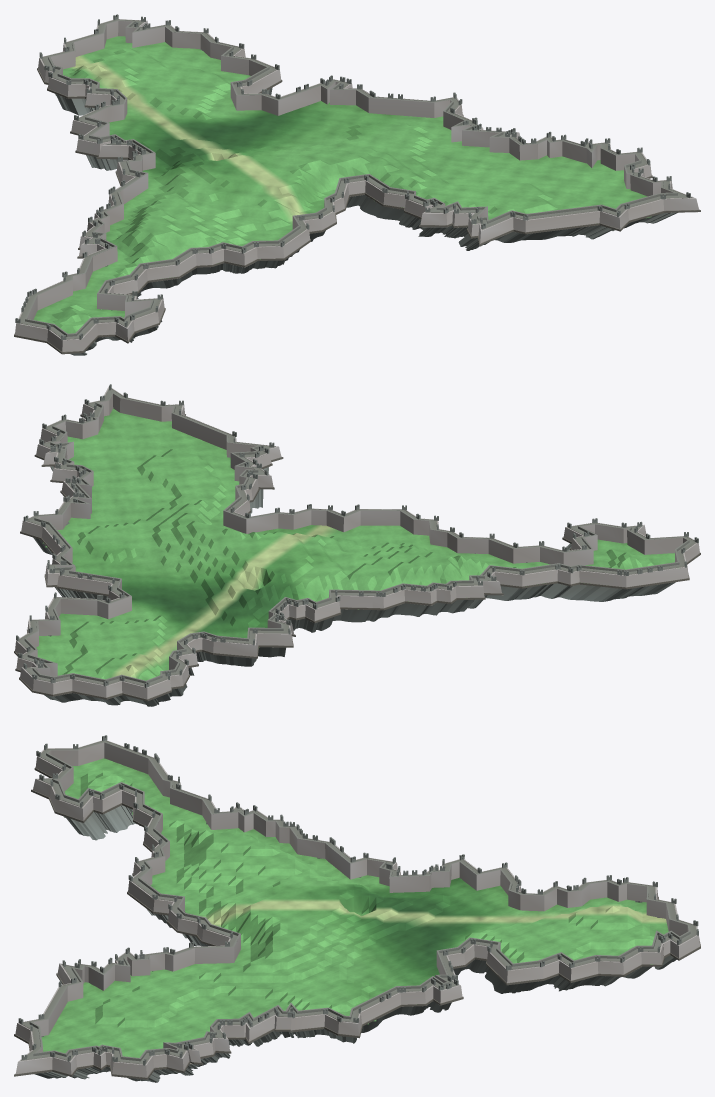
The picture shows the model from 3 angles, top to bottom: view 1: azimuth 30°, elevation 25°; view 2: azimuth 150°, elevation 25°; view 3: azimuth 270°, elevation 25°; orthographic projection. The views are drawn at different scales.
Visible parts, largest first — view 1: ground_40c06011; view 2: ground_40c06011; view 3: ground_40c06011.
Boxes of the visible parts, left/top/right/bottom form: ground_40c06011: left=14, top=14, right=700, bottom=355; ground_40c06011: left=14, top=384, right=700, bottom=706; ground_40c06011: left=14, top=735, right=700, bottom=1082.
Size of the model in its own units: 157 by 8.11 by 139.
3 materials, 1 textured.
